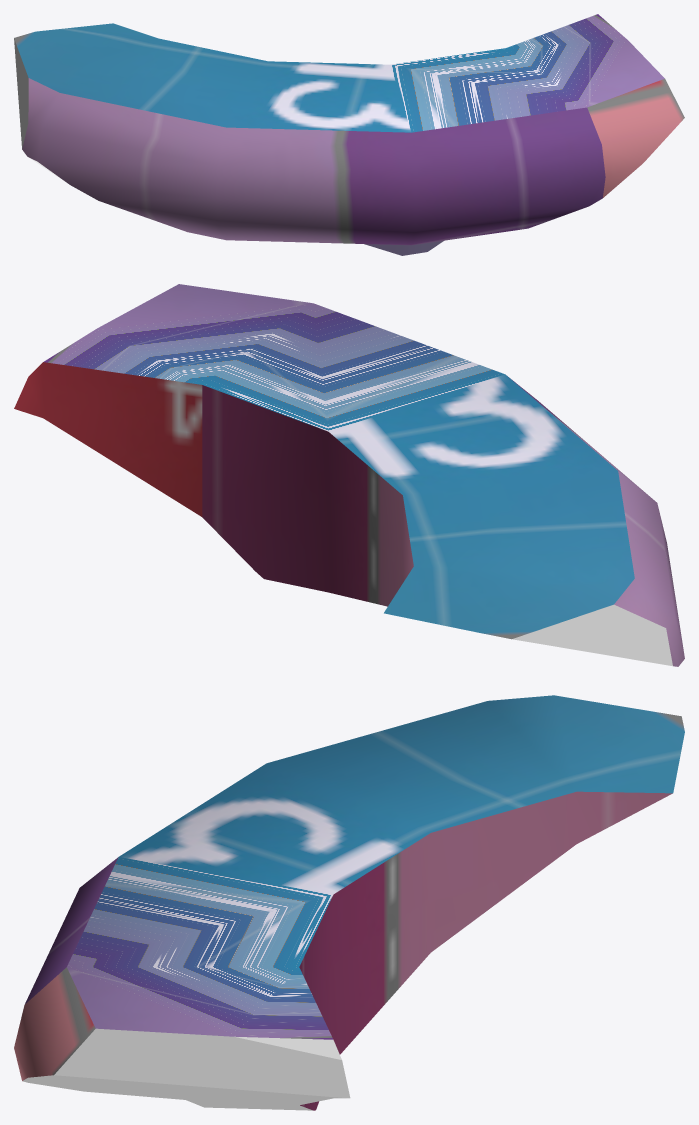
Rendered from RoundVase_SHAT_cell_018.fbx.
3 views of the same model, one above another, from view 1: azimuth 30°, elevation 25°; view 2: azimuth 150°, elevation 25°; view 3: azimuth 270°, elevation 25° (orthographic). The views are drawn at different scales.
Parts seen in each view (by area): view 1: RoundVase_SHAT_cell_018; view 2: RoundVase_SHAT_cell_018; view 3: RoundVase_SHAT_cell_018.
Boxes of the visible parts, x1,y1,x2,y2 form: RoundVase_SHAT_cell_018: (14, 14, 684, 255); RoundVase_SHAT_cell_018: (14, 284, 684, 666); RoundVase_SHAT_cell_018: (14, 695, 684, 1110).
Size of the model in its own units: 0.3712 by 0.1018 by 0.2826.
2 materials, 1 textured.
